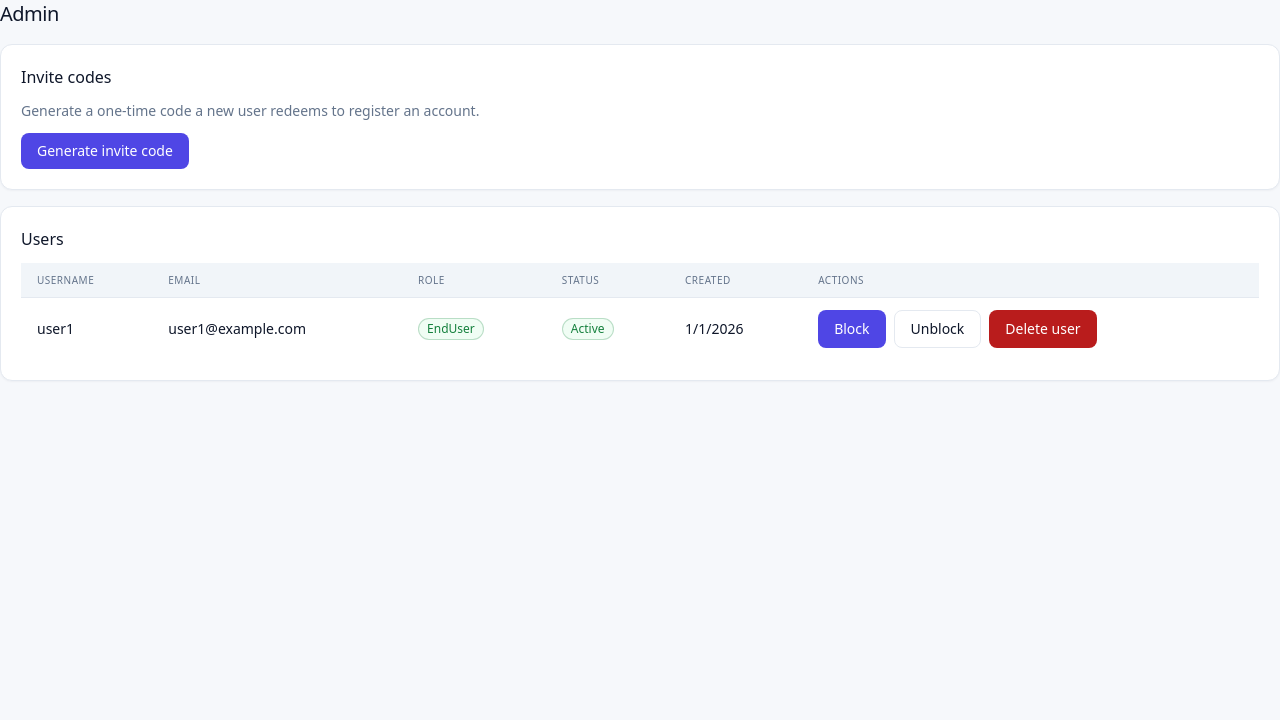
it: AdminPage › keeps delete disabled until DELETE is typed
Click the button "Delete user" at (1043, 329), box [989,310,1097,348]
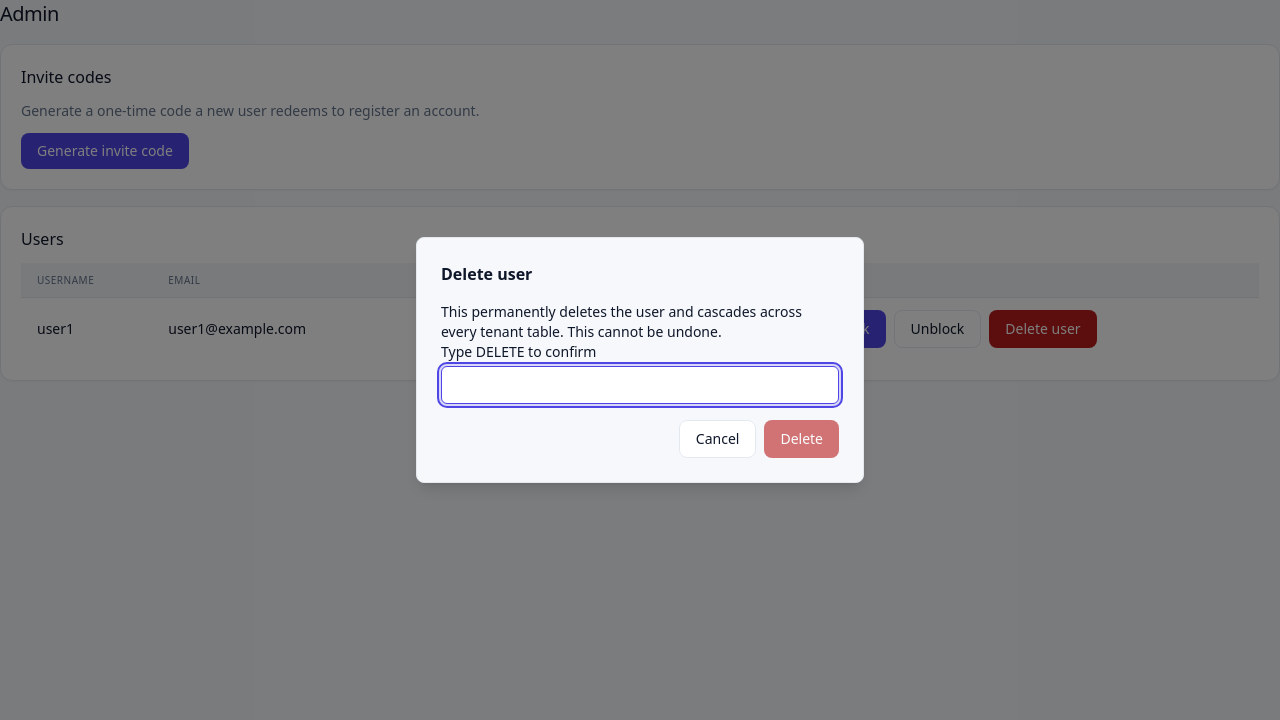
Expected: the button "Delete" is disabled, [764,420,839,458]
Type "DELETE" into the field labelled "Type DELETE to confirm" at (640, 385), box [441,366,839,404]
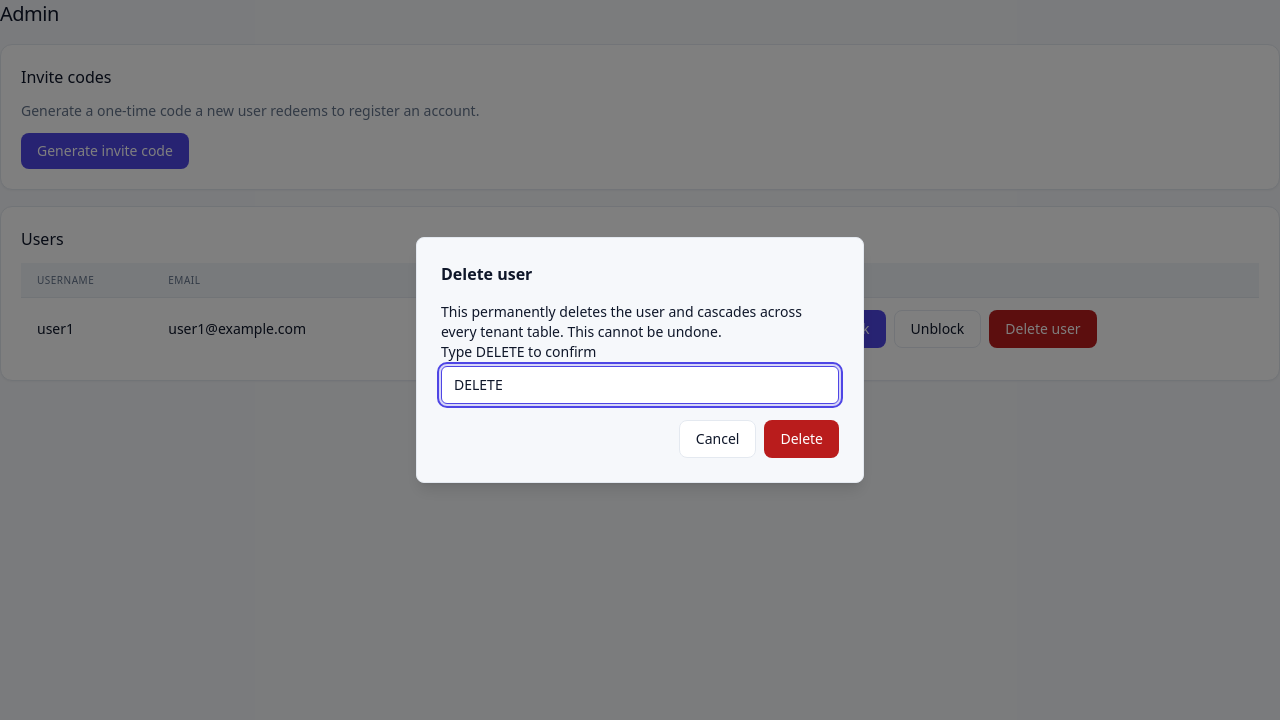
Expected: the button "Delete" is enabled, [764,420,839,458]
